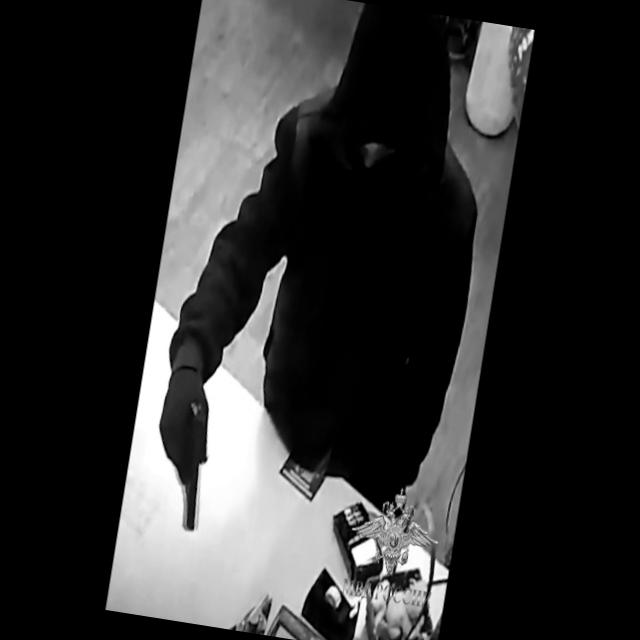gun: (141, 352, 231, 534)
person with a gun: (143, 0, 507, 568)
